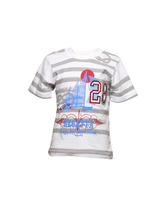clothoes: (23, 46, 139, 164)
